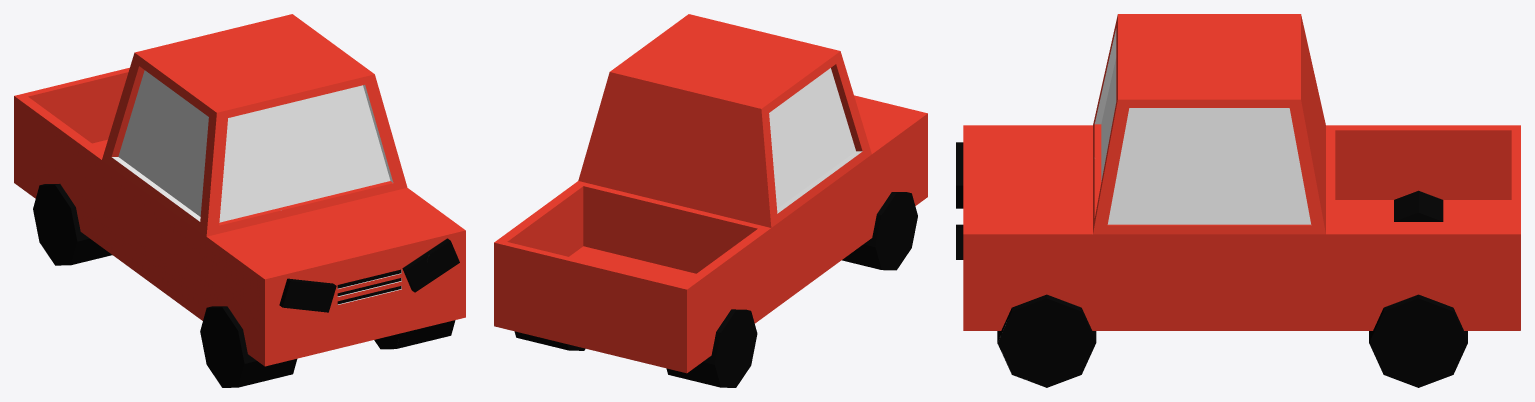
The model's file is carrocoloridomsm.fbx.
3 views of the same model, side by side, from view 1: azimuth 30°, elevation 25°; view 2: azimuth 150°, elevation 25°; view 3: azimuth 270°, elevation 25° (orthographic). The views are drawn at different scales.
Visible parts, largest first — view 1: Cube.005, Cylinder_Cylinder.001, Cylinder.002_Cylinder.003, Cube.007, Cube.006, Cylinder.001_Cylinder.002; view 2: Cube.005, Cylinder.002_Cylinder.003, Cylinder_Cylinder.001, Cylinder.003_Cylinder.004; view 3: Cube.005, Cylinder.001_Cylinder.002, Cylinder.003_Cylinder.004, Cylinder.002_Cylinder.003, Cube.006.
Part boxes in pixels (x1,y1,x2,y2): Cube.005: (14, 14, 465, 366); Cylinder_Cylinder.001: (200, 306, 297, 387); Cylinder.002_Cylinder.003: (33, 184, 112, 265); Cube.007: (402, 238, 459, 292); Cube.006: (279, 278, 336, 312); Cylinder.001_Cylinder.002: (374, 320, 455, 349); Cube.005: (494, 14, 927, 373); Cylinder.002_Cylinder.003: (666, 309, 757, 387); Cylinder_Cylinder.001: (842, 192, 917, 270); Cylinder.003_Cylinder.004: (514, 331, 585, 350); Cube.005: (963, 14, 1520, 330); Cylinder.001_Cylinder.002: (997, 294, 1096, 387); Cylinder.003_Cylinder.004: (1369, 294, 1467, 387); Cylinder.002_Cylinder.003: (1394, 190, 1443, 221); Cube.006: (956, 142, 963, 208).
Size of the model in its own units: 554 by 609 by 1143.
Materials: 2 (2 with a texture image).
